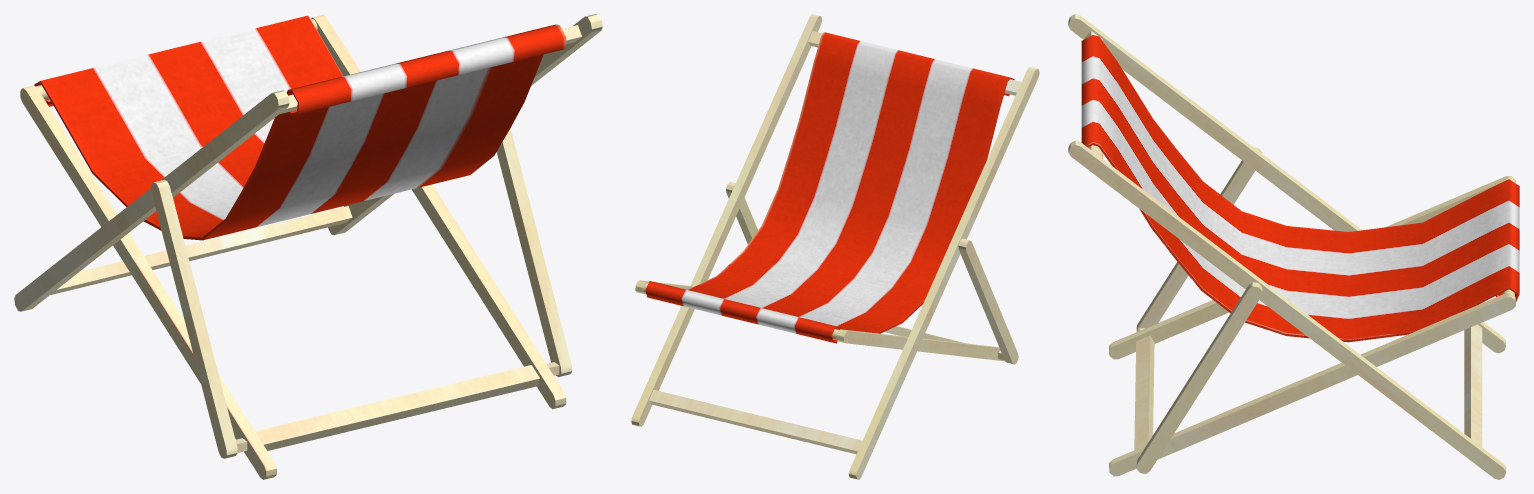
File: ETC0610059.fbx
3 views of the same model, side by side, from view 1: azimuth 30°, elevation 25°; view 2: azimuth 150°, elevation 25°; view 3: azimuth 270°, elevation 25° (orthographic). The views are drawn at different scales.
Parts seen in each view (by area): view 1: smETC0610059; view 2: smETC0610059; view 3: smETC0610059.
Part boxes in pixels (x1,y1,x2,y2): smETC0610059: (14,14,602,479); smETC0610059: (631,14,1039,479); smETC0610059: (1068,14,1519,479).
Size of the model in its own units: 101 by 113 by 138.
1 material, 1 textured.
